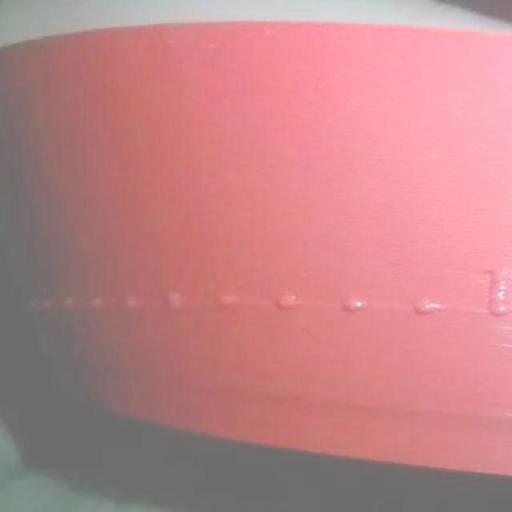blobs: (483, 270, 512, 318), (414, 290, 444, 320), (272, 289, 304, 313), (340, 292, 368, 317), (162, 288, 190, 310), (121, 292, 145, 314), (212, 288, 237, 309), (88, 294, 107, 312)
